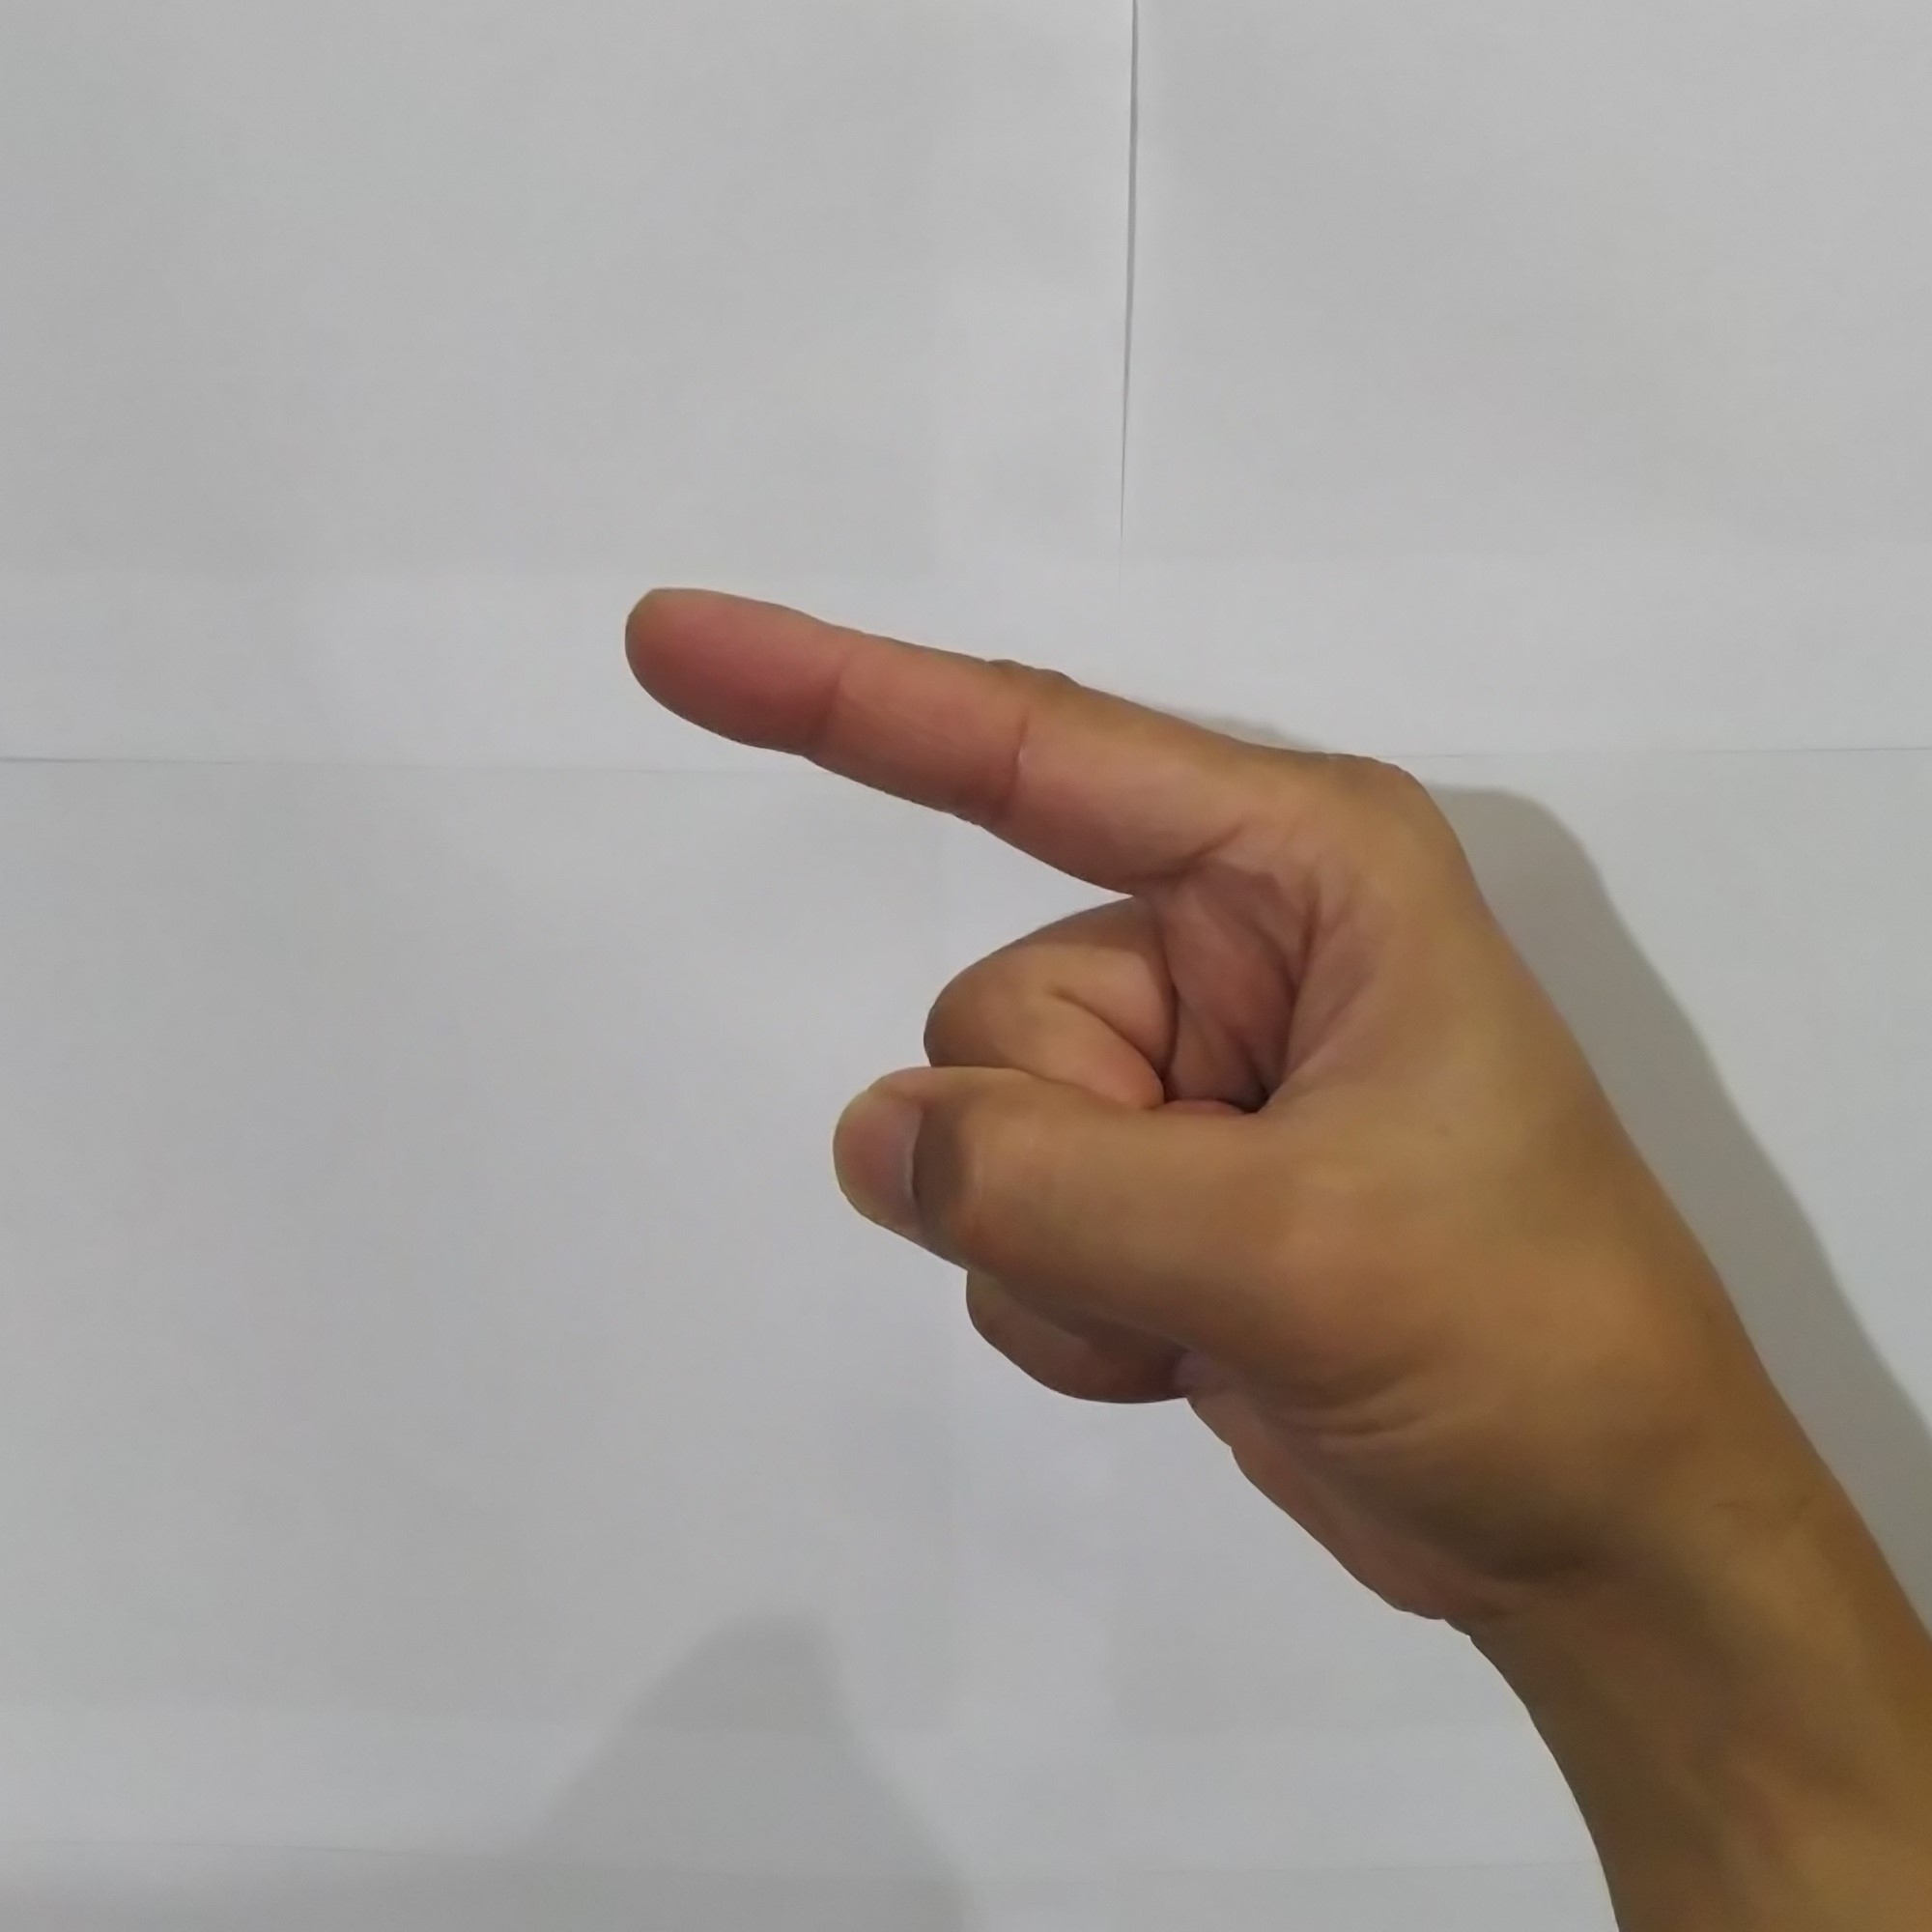Z: (596, 552, 1743, 1624)
